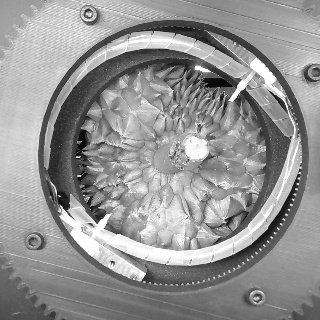base: (146, 137, 184, 179)
end: (184, 135, 208, 160)
